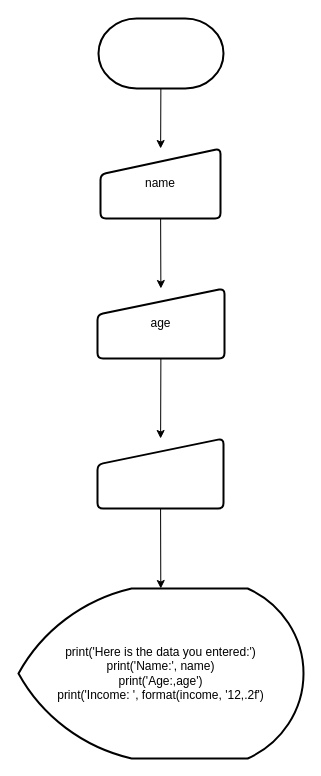
The diagram is 321 pixels wide and 776 high, and some of its shapes have lost their labels. Each missing label, with the box of its shape:
income: (96, 437, 224, 509)
start: (97, 17, 224, 89)
